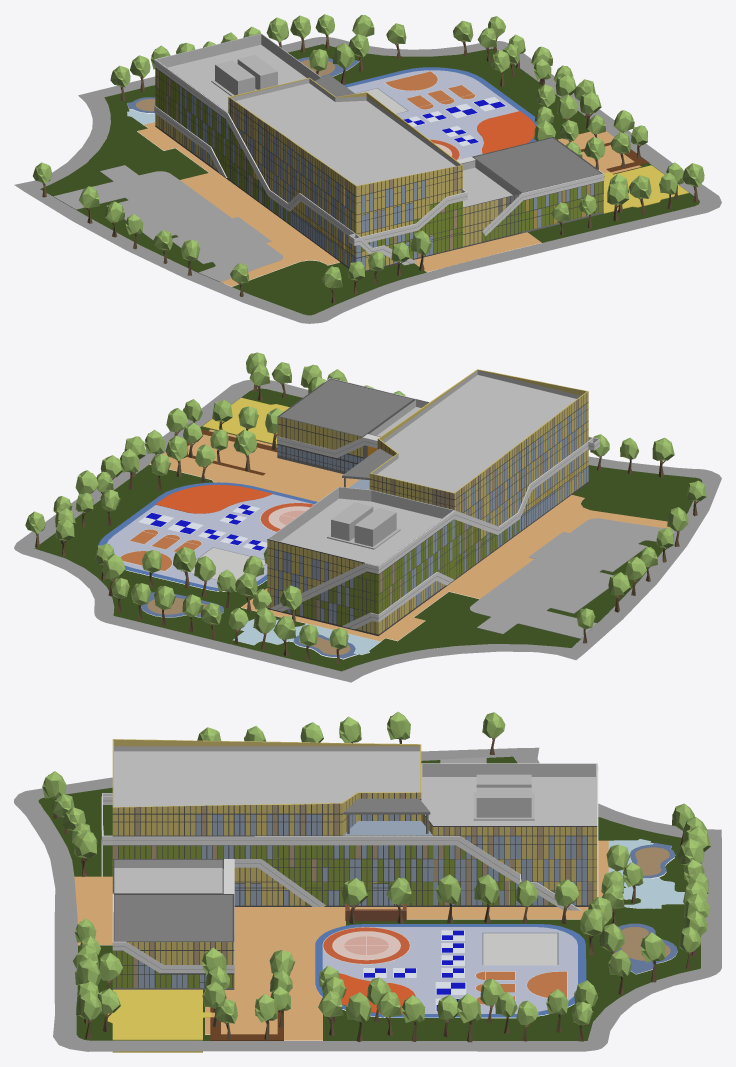
The model's file is Mission_Bay_school_low_poly_model_v03_draco.glb.
3 views of the same model, one above another, from view 1: azimuth 30°, elevation 25°; view 2: azimuth 150°, elevation 25°; view 3: azimuth 270°, elevation 25° (orthographic). The views are drawn at different scales.
Parts seen in each view (by area): view 1: Plane.003, Plane.009, Plane.015, Plane.013, Plane.014, Plane.026, Plane, Plane.010, Plane.002, Plane.004, Plane.007, Plane.021 (+6 smaller); view 2: Plane.003, Plane.009, Plane.026, Plane.015, Plane.014, Plane.013, Plane, Plane.010, Plane.004, Plane.007, Plane.021, Plane.017 (+13 smaller); view 3: Plane.003, Plane.015, Plane.026, Plane.009, Plane.014, Plane.010, Plane, Plane.004, Plane.017, Plane.002, Circle.001, Plane.011 (+32 smaller).
Part boxes in pixels (x1,y1,x2,y2): Plane.003: [228, 77, 462, 271]; Plane.009: [40, 44, 699, 315]; Plane.015: [14, 37, 721, 323]; Plane.013: [53, 165, 283, 283]; Plane.014: [137, 122, 641, 286]; Plane.026: [155, 33, 321, 179]; Plane: [472, 137, 603, 233]; Plane.010: [344, 67, 537, 159]; Plane.002: [461, 160, 521, 247]; Plane.004: [154, 56, 467, 242]; Plane.007: [215, 55, 277, 95]; Plane.021: [477, 111, 535, 153]; Plane.003: [349, 369, 588, 579]; Plane.009: [34, 388, 702, 671]; Plane.026: [267, 487, 454, 636]; Plane.015: [14, 379, 721, 682]; Plane.014: [149, 429, 671, 641]; Plane.013: [469, 518, 676, 638]; Plane: [277, 378, 414, 473]; Plane.010: [98, 482, 317, 590]; Plane.004: [270, 436, 593, 629]; Plane.007: [331, 502, 396, 546]; Plane.021: [155, 485, 272, 513]; Plane.017: [202, 397, 289, 444]; Plane.003: [112, 739, 433, 906]; Plane.015: [14, 747, 721, 1051]; Plane.026: [421, 763, 597, 906]; Plane.009: [38, 756, 700, 1040]; Plane.014: [74, 840, 608, 1040]; Plane.010: [315, 924, 586, 1017]; Plane: [112, 894, 234, 989]; Plane.004: [101, 763, 598, 910]; Plane.017: [107, 989, 211, 1052]; Plane.002: [113, 859, 223, 893]; Circle.001: [322, 927, 410, 964]; Plane.011: [482, 932, 558, 965].
Size of the model in its own units: 114 by 20.66 by 112.
Materials: 40 (1 with a texture image).
